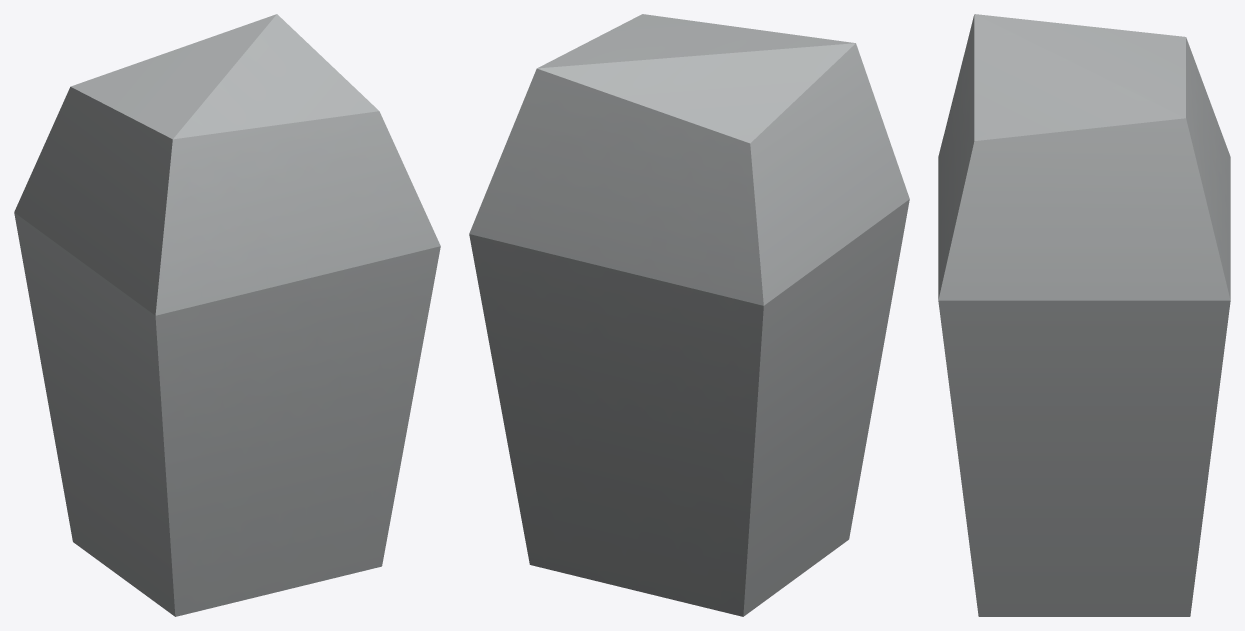
Rendered from stone_2.fbx.
3 views of the same model, side by side, from view 1: azimuth 30°, elevation 25°; view 2: azimuth 150°, elevation 25°; view 3: azimuth 270°, elevation 25° (orthographic). The views are drawn at different scales.
Visible parts, largest first — view 1: stone_2; view 2: stone_2; view 3: stone_2.
Boxes of the visible parts, x1,y1,x2,y2 form: stone_2: [14, 14, 440, 616]; stone_2: [469, 14, 909, 616]; stone_2: [938, 14, 1230, 616].
Bounding box in the file's own units: 0.6573 × 1.06 × 0.5641.
